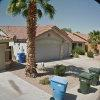Palm tree: (9, 1, 51, 70)
